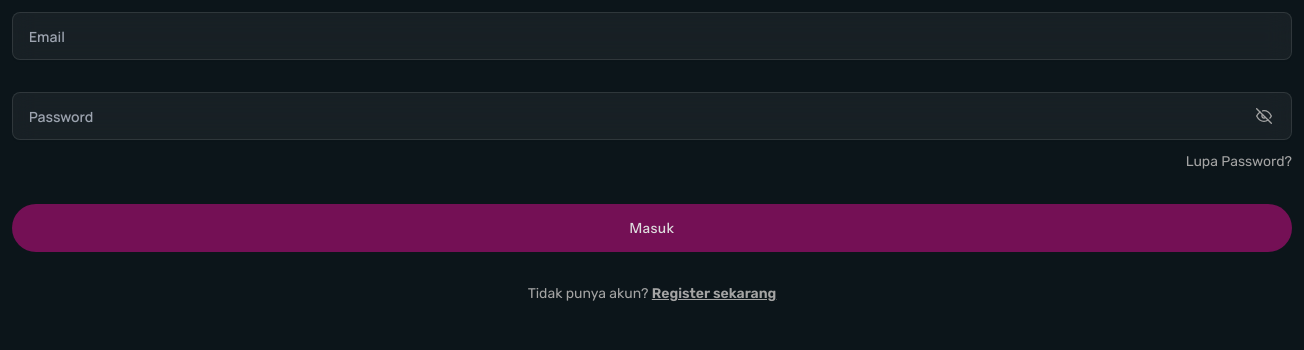
Test: LoginForm › shows validation errors on empty submit
The width and height of the screenshot is (1304, 350).
Click the button "Masuk": x=652, y=228 x1=12 y1=204 x2=1292 y2=252
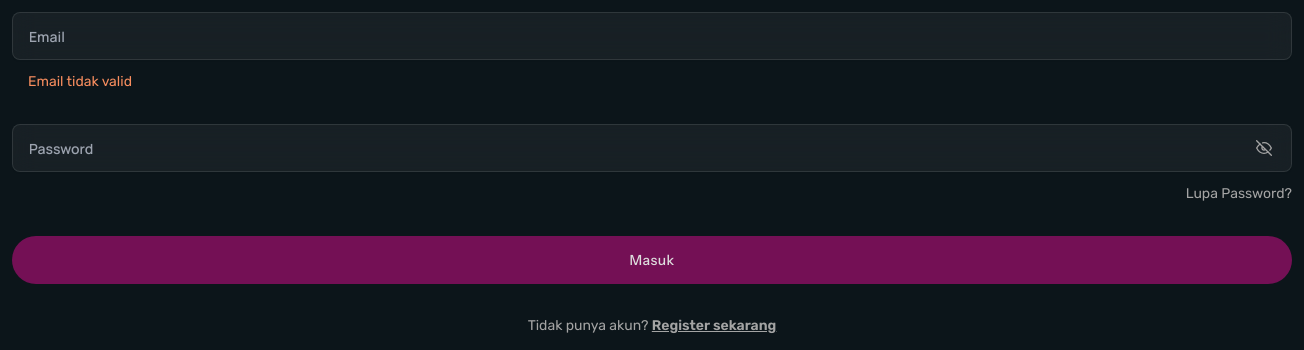
expect the text "Email tidak valid" is shown: met, box x1=28 y1=73 x2=132 y2=90
